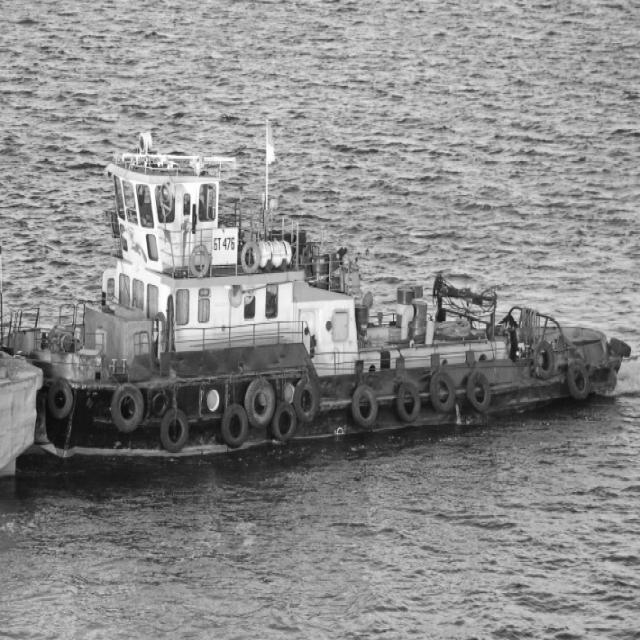tugboat: (1, 126, 636, 482)
